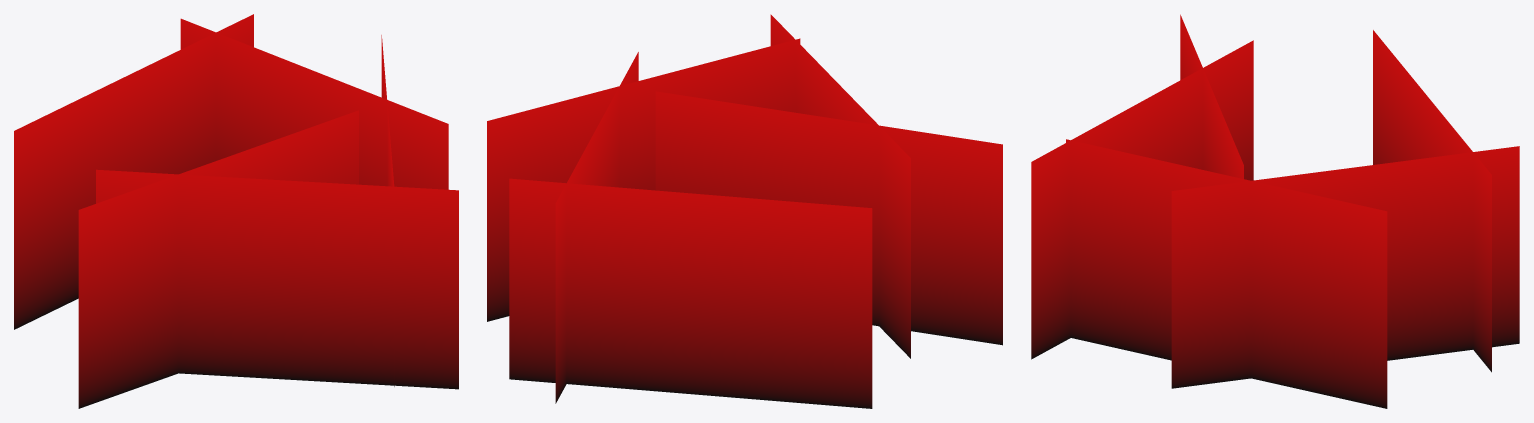
File: SM_Grass1_LOD 1.fbx
The picture shows the model from 3 angles, left to right: view 1: azimuth 30°, elevation 25°; view 2: azimuth 150°, elevation 25°; view 3: azimuth 270°, elevation 25°; orthographic projection.
Parts seen in each view (by area): view 1: Billboard; view 2: Billboard; view 3: Billboard.
Boxes of the visible parts, x1,y1,x2,y2 form: Billboard: (14, 14, 458, 408); Billboard: (487, 14, 1002, 408); Billboard: (1031, 14, 1519, 408).
Size of the model in its own units: 0.8149 by 0.3805 by 0.8517.
